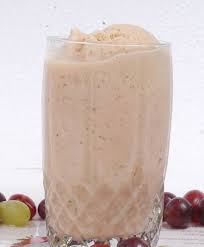jigirthanda: (47, 31, 143, 194)
